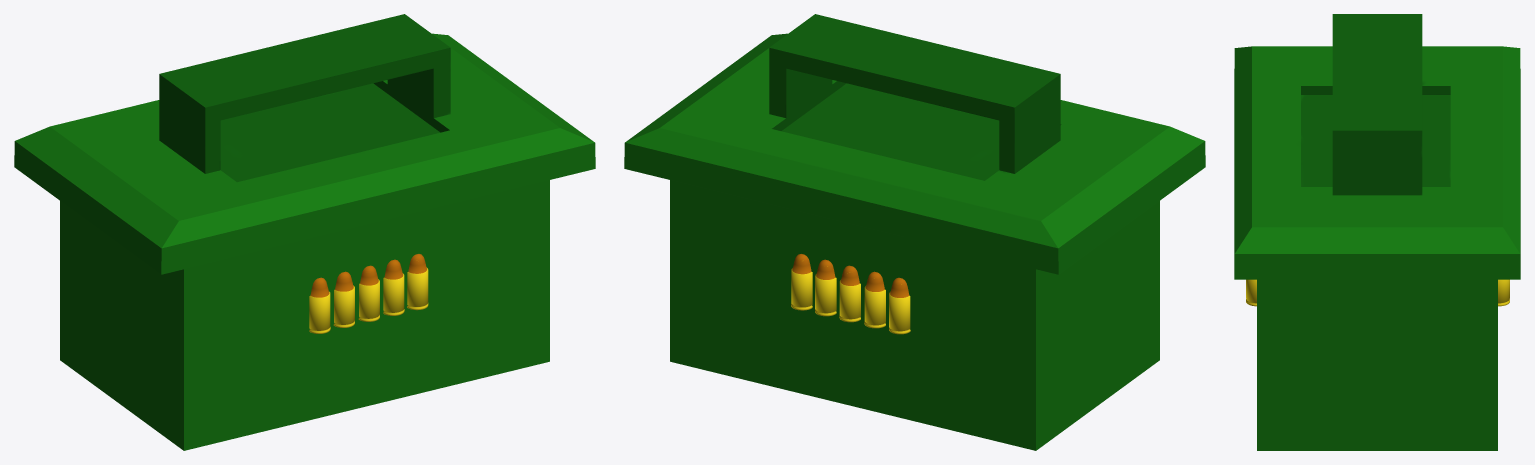
File: PABblend.fbx
3 views of the same model, side by side, from view 1: azimuth 30°, elevation 25°; view 2: azimuth 150°, elevation 25°; view 3: azimuth 270°, elevation 25° (orthographic). The views are drawn at different scales.
Visible parts, largest first — view 1: Cube, Cylinder.007, Cylinder.008, Cylinder.009, Cylinder.005, Cylinder.006; view 2: Cube, Cylinder, Cylinder.001, Cylinder.003, Cylinder.002, Cylinder.004; view 3: Cube, Cylinder.004, Cylinder.009.
Part boxes in pixels (left/top/right/bottom): Cube: left=14, top=14, right=595, bottom=450; Cylinder.007: left=309, top=277, right=330, bottom=333; Cylinder.008: left=383, top=259, right=404, bottom=315; Cylinder.009: left=407, top=254, right=428, bottom=310; Cylinder.005: left=358, top=265, right=379, bottom=321; Cylinder.006: left=333, top=271, right=354, bottom=327; Cube: left=624, top=14, right=1205, bottom=450; Cylinder: left=839, top=265, right=860, bottom=322; Cylinder.001: left=864, top=271, right=885, bottom=328; Cylinder.003: left=815, top=259, right=836, bottom=316; Cylinder.002: left=889, top=277, right=910, bottom=334; Cylinder.004: left=791, top=254, right=812, bottom=310; Cube: left=1234, top=14, right=1520, bottom=450; Cylinder.004: left=1498, top=279, right=1509, bottom=306; Cylinder.009: left=1246, top=279, right=1256, bottom=306.
Bounding box in the file's own units: 101 × 66.81 × 59.35.
2 materials, 2 textured.
